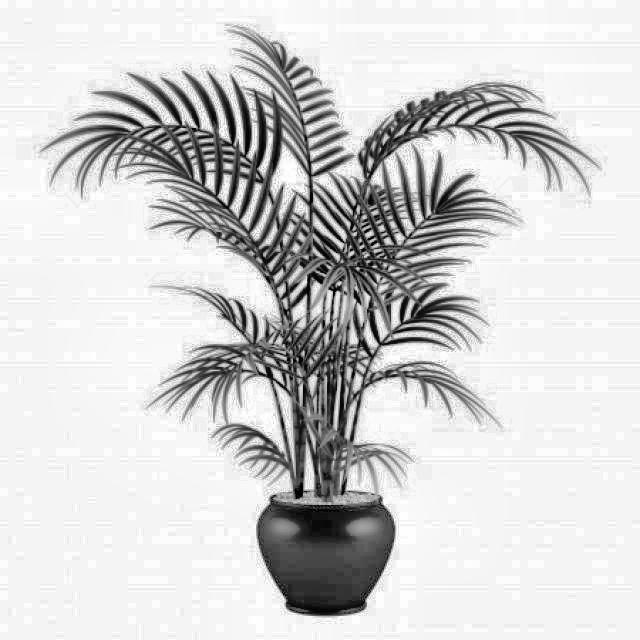plants: (105, 51, 570, 610)
